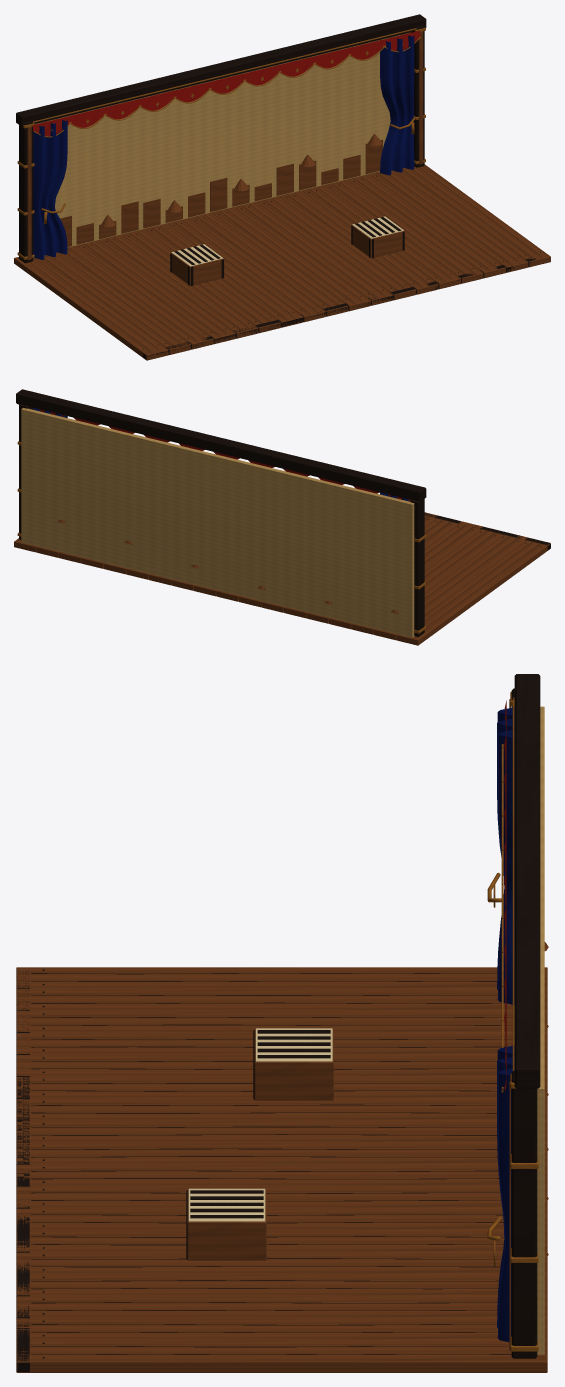
File: stage.glb
3 renders of one model, top to bottom at view 1: azimuth 30°, elevation 25°; view 2: azimuth 150°, elevation 25°; view 3: azimuth 270°, elevation 25°, orthographic. The views are drawn at different scales.
Parts seen in each view (by area): view 1: stage-crafted-surfaces, block-west-crafted-surfaces, block-east-crafted-surfaces; view 2: stage-crafted-surfaces; view 3: stage-crafted-surfaces, block-east-crafted-surfaces, block-west-crafted-surfaces.
Boxes of the visible parts, <box> form: stage-crafted-surfaces: <box>14,14,550,360</box>; block-west-crafted-surfaces: <box>170,244,224,285</box>; block-east-crafted-surfaces: <box>351,216,404,258</box>; stage-crafted-surfaces: <box>14,389,550,645</box>; stage-crafted-surfaces: <box>16,674,548,1372</box>; block-east-crafted-surfaces: <box>186,1188,266,1260</box>; block-west-crafted-surfaces: <box>253,1028,333,1100</box>.
Bounding box in the file's own units: 15.3 × 5.51 × 8.72.
Materials: 7 (7 with a texture image).
